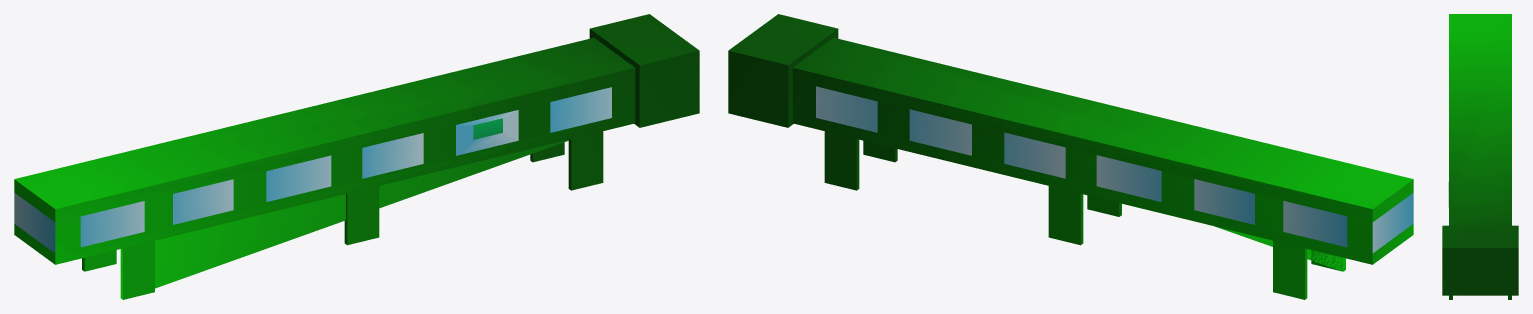
File: Canal de Agua.fbx
3 views of the same model, side by side, from view 1: azimuth 30°, elevation 25°; view 2: azimuth 150°, elevation 25°; view 3: azimuth 270°, elevation 25° (orthographic). The views are drawn at different scales.
Parts seen in each view (by area): view 1: Cube; view 2: Cube; view 3: Cube.
Boxes of the visible parts, bbox=[...] form: Cube: bbox=[14, 14, 699, 299]; Cube: bbox=[728, 14, 1413, 299]; Cube: bbox=[1442, 14, 1518, 299].
Size of the model in its own units: 1797 by 303 by 244.
